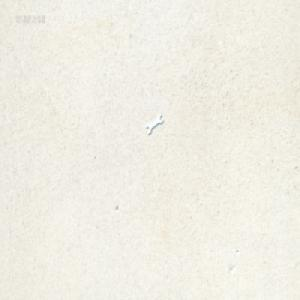Wrench: (145, 113, 163, 134)
